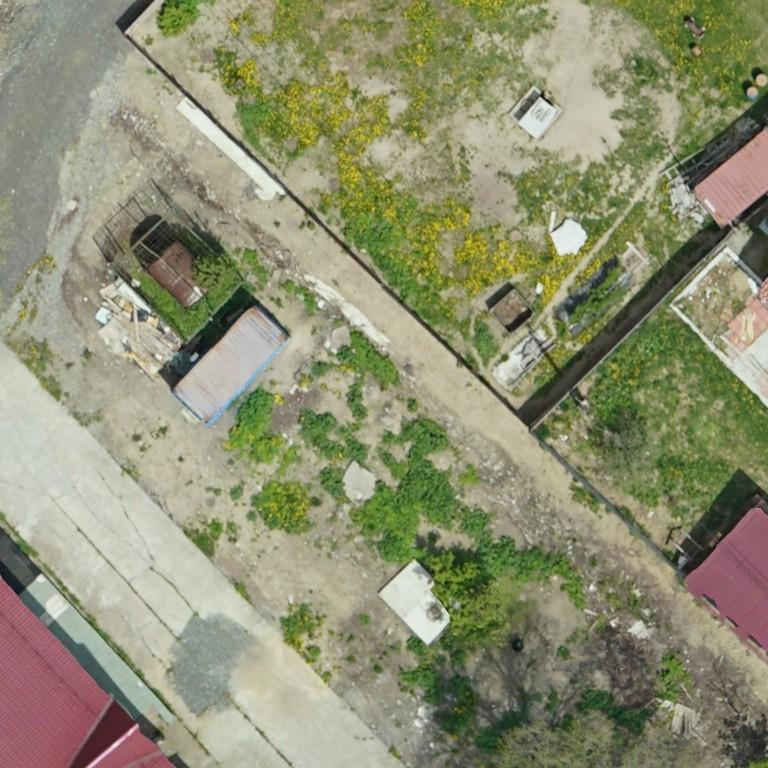hogweed: (352, 418, 460, 562), (478, 537, 574, 583), (336, 330, 400, 389), (229, 387, 273, 451), (356, 229, 404, 285), (298, 409, 342, 456), (318, 466, 346, 502), (346, 379, 366, 421), (463, 508, 488, 538)
